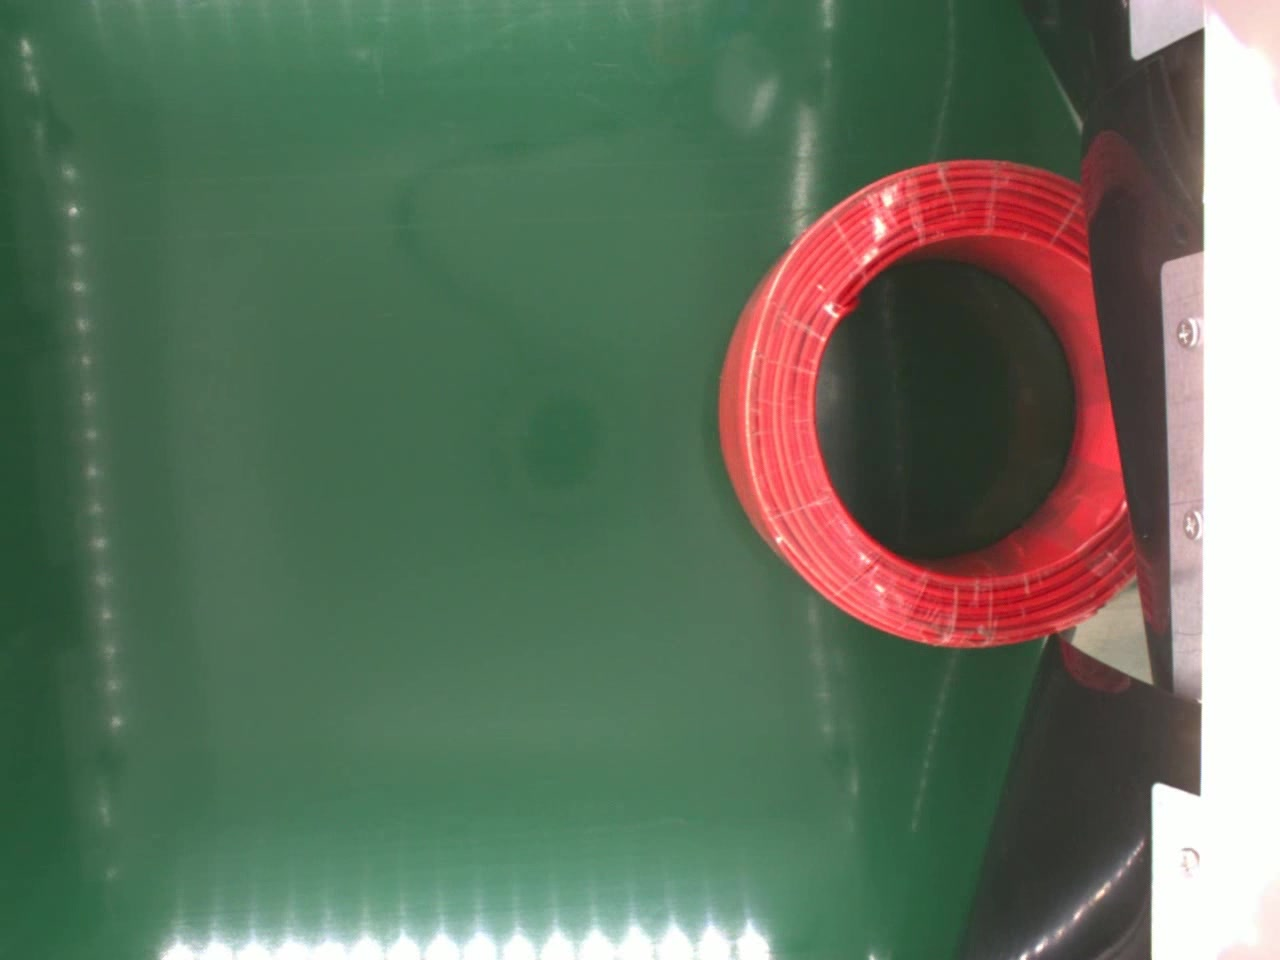red: (715, 155, 1140, 654)
